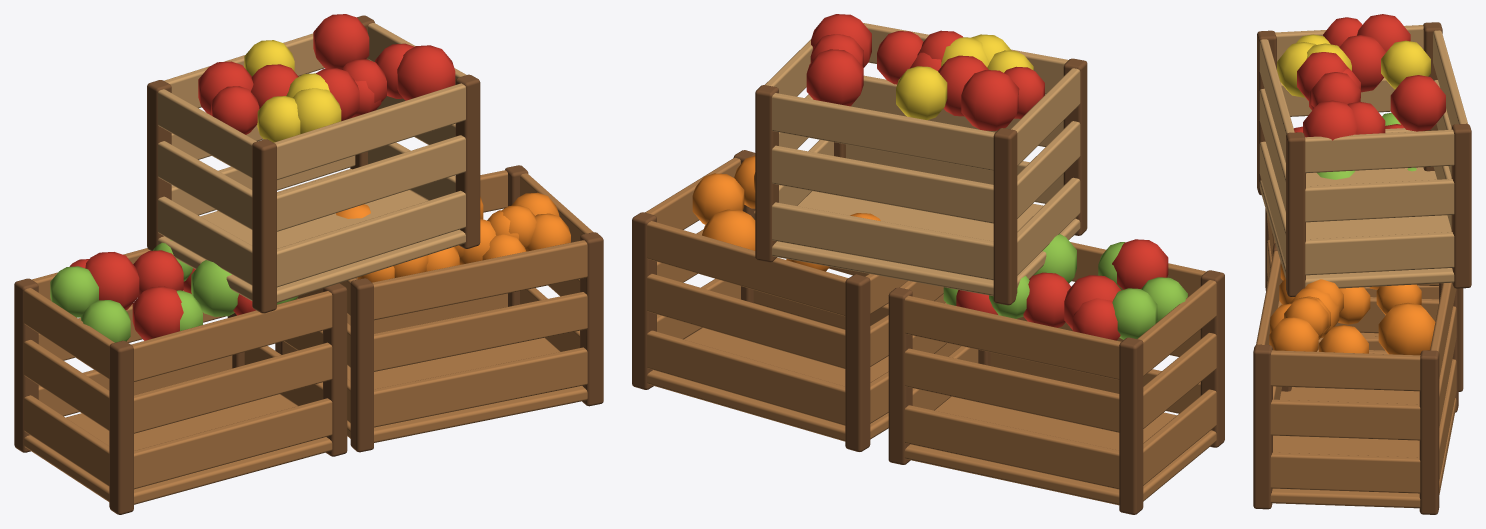
File: mk_crate_stack.glb
The picture shows the model from 3 angles, left to right: view 1: azimuth 30°, elevation 25°; view 2: azimuth 150°, elevation 25°; view 3: azimuth 270°, elevation 25°; orthographic projection. The views are drawn at different scales.
Parts seen in each view (by area): view 1: mk_crate_stack_body; view 2: mk_crate_stack_body; view 3: mk_crate_stack_body.
Part boxes in pixels (x1=…): mk_crate_stack_body: x1=14, y1=14, x2=603, y2=514; mk_crate_stack_body: x1=632, y1=14, x2=1224, y2=514; mk_crate_stack_body: x1=1253, y1=14, x2=1471, y2=514.
Bounding box in the file's own units: 1.32 × 0.927 × 0.5235.
